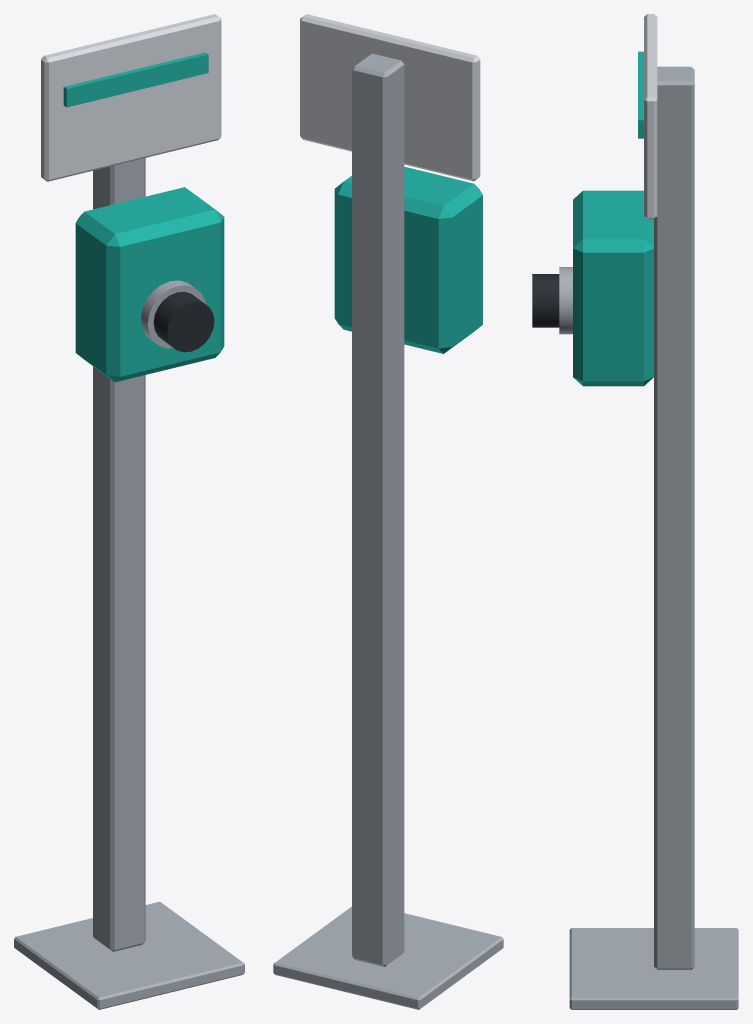
File: esd-button-post.glb
3 views of the same model, side by side, from view 1: azimuth 30°, elevation 25°; view 2: azimuth 150°, elevation 25°; view 3: azimuth 270°, elevation 25° (orthographic).
Visible parts, largest first — view 1: esd-button-post; view 2: esd-button-post; view 3: esd-button-post.
Part boxes in pixels (x1,y1,x2,y2): esd-button-post: [14, 14, 244, 1009]; esd-button-post: [273, 14, 503, 1009]; esd-button-post: [532, 14, 738, 1009].
Bounding box in the file's own units: 0.3 × 1.5 × 0.305.
